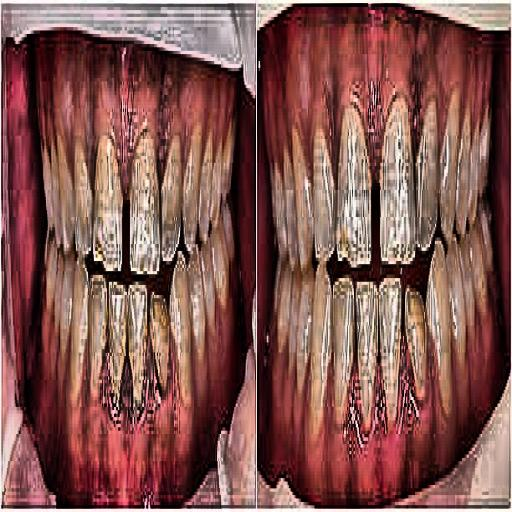Calculus: (54, 253, 244, 417), (46, 106, 234, 264)
